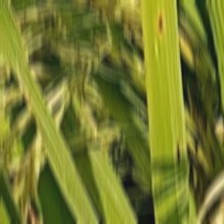Bacterial_Leaf_Blight: (155, 13, 167, 39), (171, 137, 181, 166)
